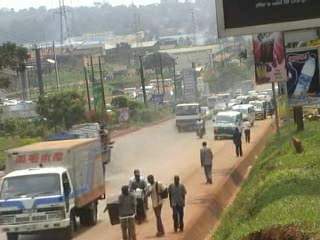Car: (209, 101, 227, 116), (200, 104, 211, 121)
Motorcycle: (127, 168, 154, 223), (192, 117, 205, 142)
